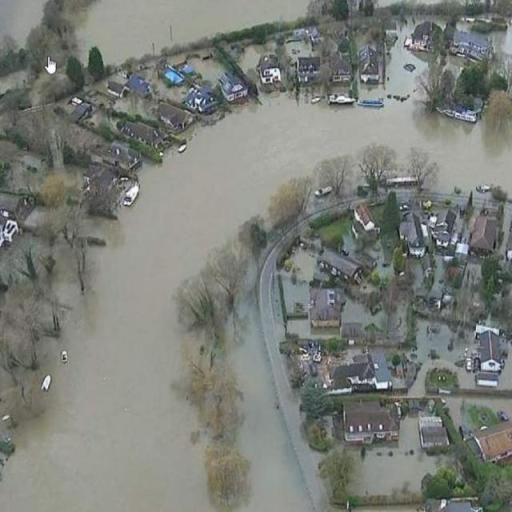flood: (0, 19, 512, 512), (0, 129, 236, 512), (233, 319, 312, 512), (78, 0, 308, 62), (408, 322, 512, 428), (352, 414, 450, 496), (409, 248, 448, 306), (0, 0, 46, 44), (138, 68, 189, 102), (74, 72, 126, 100), (341, 298, 385, 327), (287, 318, 339, 340), (282, 273, 309, 312), (188, 58, 225, 86), (293, 247, 318, 283), (47, 166, 86, 188), (368, 249, 394, 278), (284, 40, 314, 62), (239, 45, 262, 72), (462, 259, 483, 288), (115, 95, 140, 112), (90, 111, 116, 127), (24, 207, 40, 226), (343, 233, 355, 258), (56, 97, 75, 112), (20, 154, 40, 168)
house: (341, 399, 397, 450), (284, 28, 322, 92), (470, 418, 512, 463), (454, 27, 498, 63), (324, 246, 365, 284), (307, 286, 343, 328), (470, 210, 500, 256), (342, 352, 376, 391), (476, 328, 504, 374), (419, 412, 451, 451), (157, 100, 196, 132), (122, 122, 164, 150), (256, 46, 282, 91), (400, 213, 426, 258), (352, 198, 377, 242), (357, 45, 383, 84), (218, 71, 250, 101), (409, 20, 435, 53)
